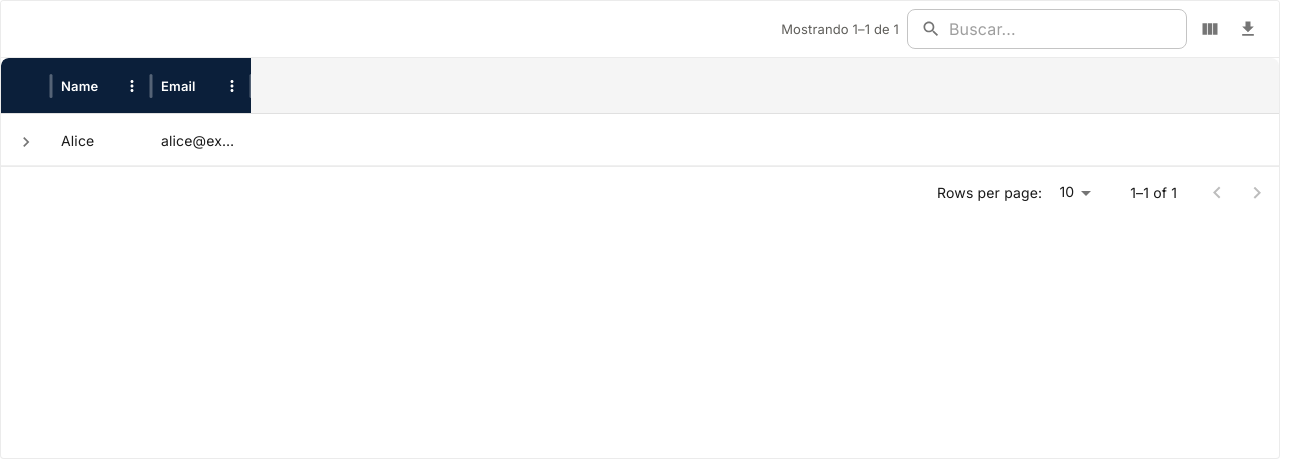
it: DataTable › row expansion › should toggle expand button aria-label after clicking
This screenshot has width=1292, height=476.
Click the button named "Expandir fila".
click(26, 142)  # box [11,127,41,157]
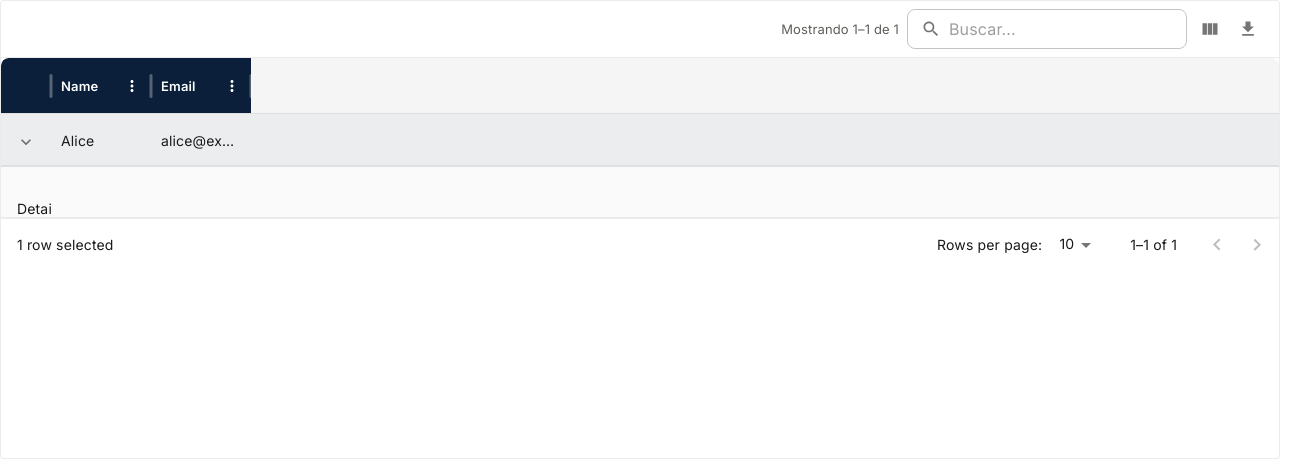
Expected: the button named "Contraer fila" is shown, [11,127,41,157]
